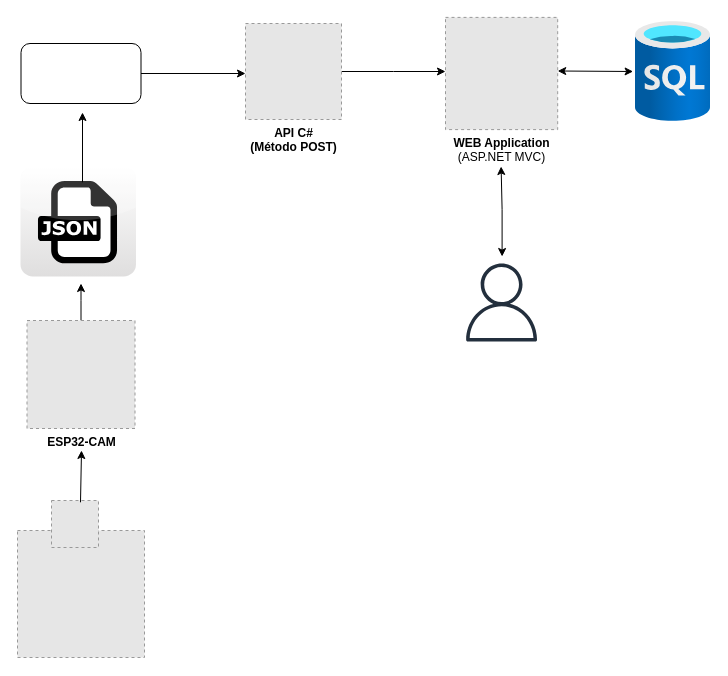
This 728x676 diagram has some shape labels left out. Grey dashed boxes stand in for pictures. Each missing label, with the centre of its shape:
"HELIX (FIWARE Broker)" belongs at pixel 80 73.
"SQL Server" belongs at pixel 672 71.
